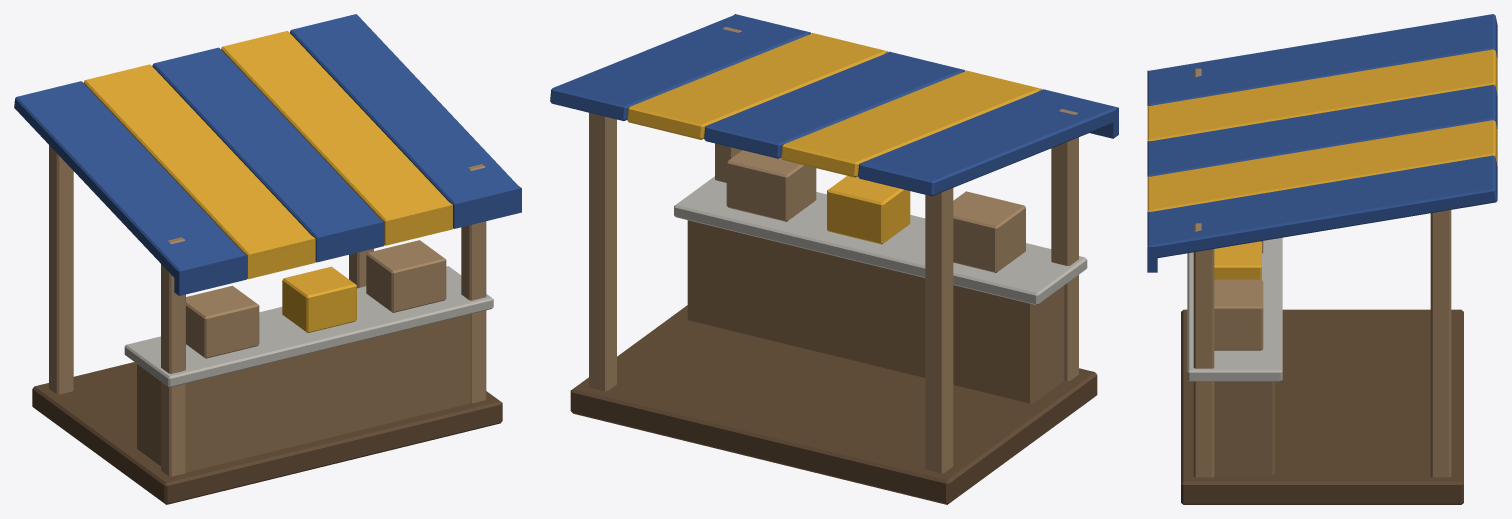
File: Stylized_Landmark_MarketStall_Blue.fbx
3 views of the same model, side by side, from view 1: azimuth 30°, elevation 25°; view 2: azimuth 150°, elevation 25°; view 3: azimuth 270°, elevation 25° (orthographic). The views are drawn at different scales.
Parts seen in each view (by area): view 1: Stylized_Landmark_MarketStall_Blue; view 2: Stylized_Landmark_MarketStall_Blue; view 3: Stylized_Landmark_MarketStall_Blue.
Boxes of the visible parts, x1,y1,x2,y2 form: Stylized_Landmark_MarketStall_Blue: [14, 14, 521, 504]; Stylized_Landmark_MarketStall_Blue: [550, 14, 1118, 504]; Stylized_Landmark_MarketStall_Blue: [1147, 14, 1497, 504].
Bounding box in the file's own units: 3.24 × 2.72 × 2.72.
